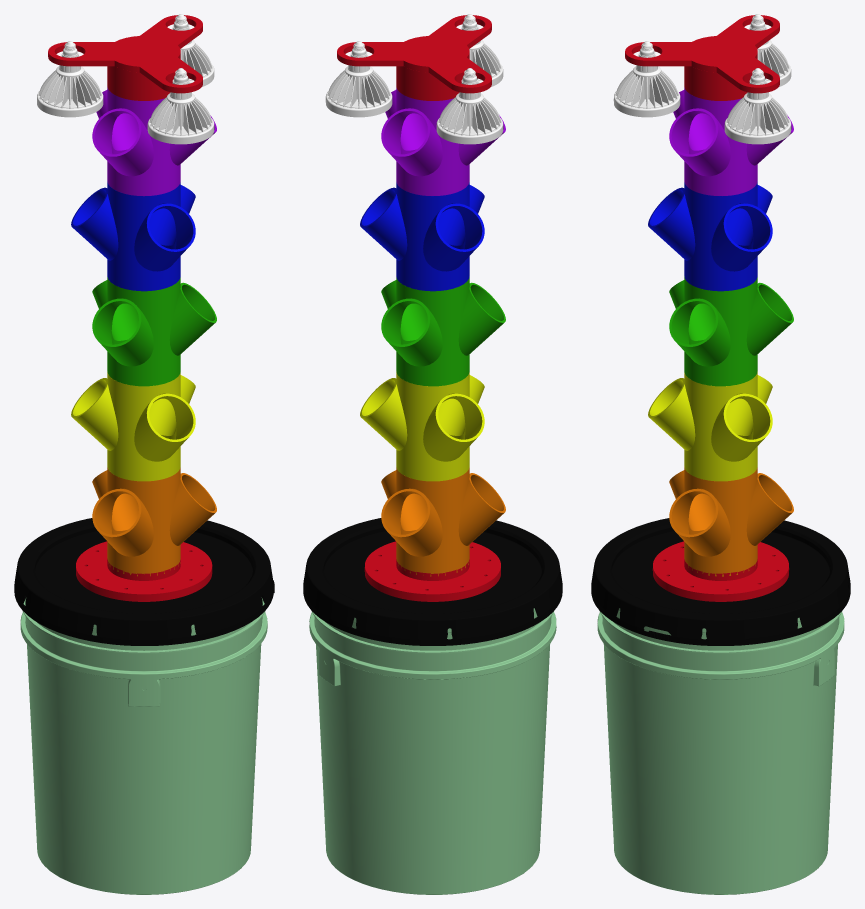
The picture shows the model from 3 angles, left to right: view 1: azimuth 30°, elevation 25°; view 2: azimuth 150°, elevation 25°; view 3: azimuth 270°, elevation 25°; orthographic projection.
Visible parts, largest first — view 1: Body1, Body1.003, Body1.007, Body1.009, Body1.010, Body1.008, Body1.001, Body1.006, Body1.002, Body1.011, Body1.012, Body1.004 (+1 smaller); view 2: Body1, Body1.003, Body1.007, Body1.009, Body1.010, Body1.008, Body1.001, Body1.006, Body1.002, Body1.005, Body1.012, Body1.004 (+1 smaller); view 3: Body1, Body1.003, Body1.009, Body1.007, Body1.010, Body1.008, Body1.001, Body1.006, Body1.002, Body1.005, Body1.011, Body1.004 (+1 smaller).
Part boxes in pixels (<box>): Body1: <box>20,597,267,894</box>; Body1.003: <box>14,518,274,645</box>; Body1.007: <box>92,277,216,386</box>; Body1.009: <box>71,181,195,291</box>; Body1.010: <box>71,372,195,481</box>; Body1.008: <box>92,467,216,576</box>; Body1.001: <box>92,87,216,196</box>; Body1.006: <box>48,15,202,93</box>; Body1.002: <box>76,541,212,601</box>; Body1.011: <box>147,68,214,144</box>; Body1.012: <box>37,41,103,117</box>; Body1.004: <box>107,58,180,100</box>; Body1: <box>309,608,556,894</box>; Body1.003: <box>303,518,562,645</box>; Body1.007: <box>381,277,505,386</box>; Body1.009: <box>360,182,484,291</box>; Body1.010: <box>360,372,484,481</box>; Body1.008: <box>381,467,505,576</box>; Body1.001: <box>381,87,505,195</box>; Body1.006: <box>337,15,491,93</box>; Body1.002: <box>364,541,500,601</box>; Body1.005: <box>325,41,392,117</box>; Body1.012: <box>436,68,503,144</box>; Body1.004: <box>396,58,469,100</box>; Body1: <box>597,608,844,894</box>; Body1.003: <box>591,518,850,645</box>; Body1.009: <box>648,181,772,291</box>; Body1.007: <box>669,276,793,386</box>; Body1.010: <box>648,372,772,481</box>; Body1.008: <box>669,467,793,576</box>; Body1.001: <box>669,87,793,195</box>; Body1.006: <box>625,15,779,93</box>; Body1.002: <box>652,541,789,601</box>; Body1.005: <box>724,68,791,144</box>; Body1.011: <box>613,41,680,117</box>; Body1.004: <box>684,58,757,100</box>.
Size of the model in its own units: 0.314 by 1.08 by 0.314.
